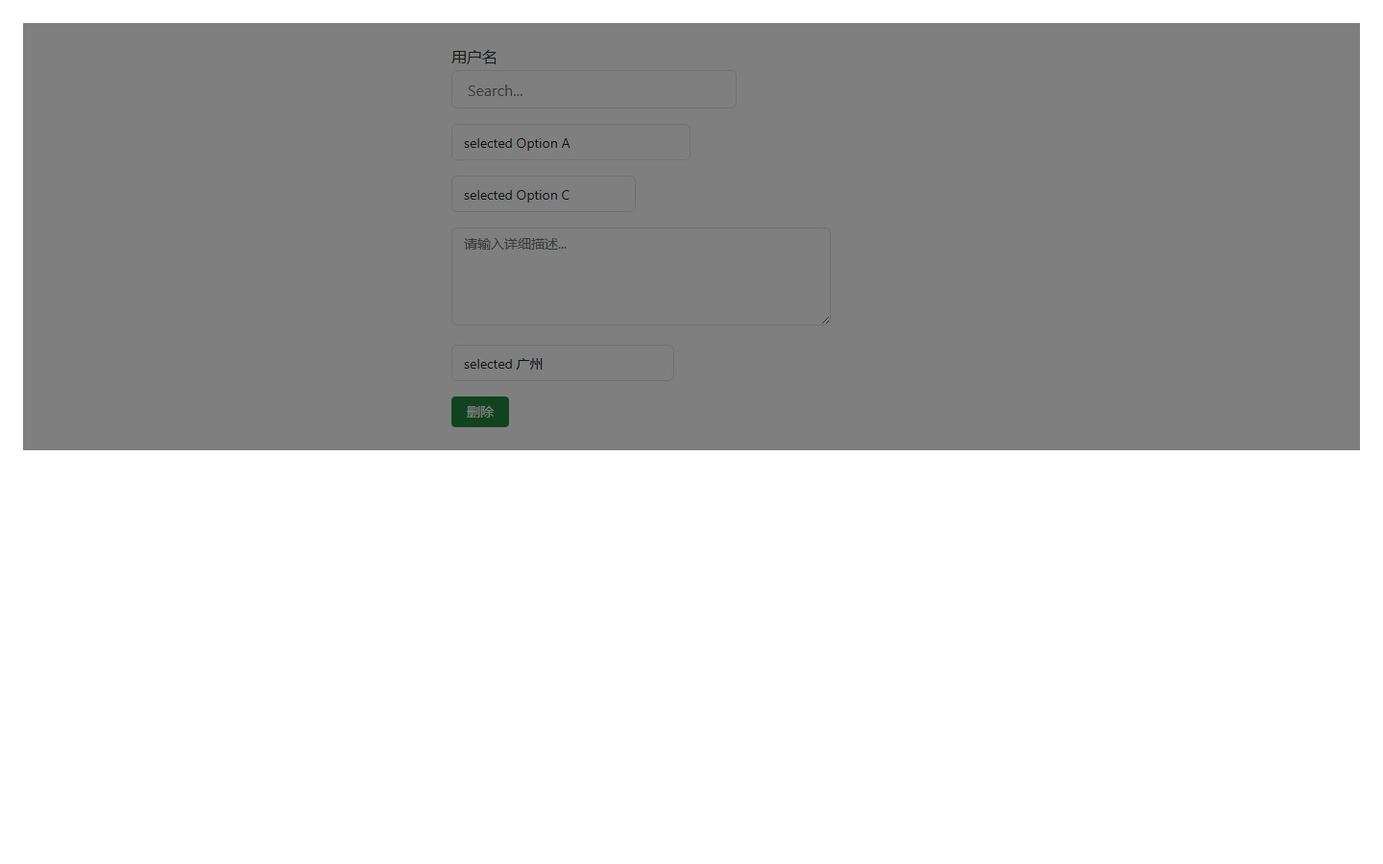button: (451, 396, 509, 427)
input: (451, 70, 737, 108)
modal: (23, 23, 1360, 450)
select: (451, 124, 691, 160), (451, 345, 674, 381), (451, 176, 636, 212)
textarea: (451, 228, 831, 325)
